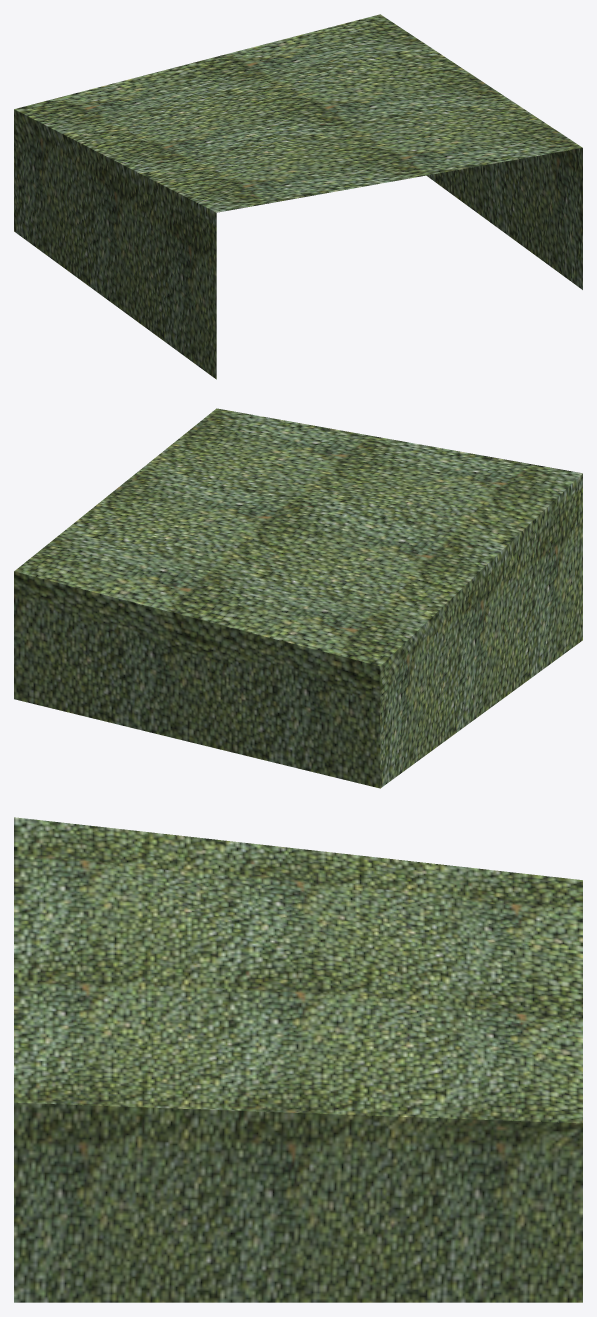
The model's file is SM_配餐区_绿豆_01.fbx.
The picture shows the model from 3 angles, top to bottom: view 1: azimuth 30°, elevation 25°; view 2: azimuth 150°, elevation 25°; view 3: azimuth 270°, elevation 25°; orthographic projection. The views are drawn at different scales.
Parts seen in each view (by area): view 1: SM_配餐区_绿豆_01; view 2: SM_配餐区_绿豆_01; view 3: SM_配餐区_绿豆_01.
Part boxes in pixels (x1,y1,x2,y2): SM_配餐区_绿豆_01: [14, 14, 582, 379]; SM_配餐区_绿豆_01: [14, 408, 582, 788]; SM_配餐区_绿豆_01: [14, 817, 582, 1302].
Size of the model in its own units: 287 by 125 by 275.
